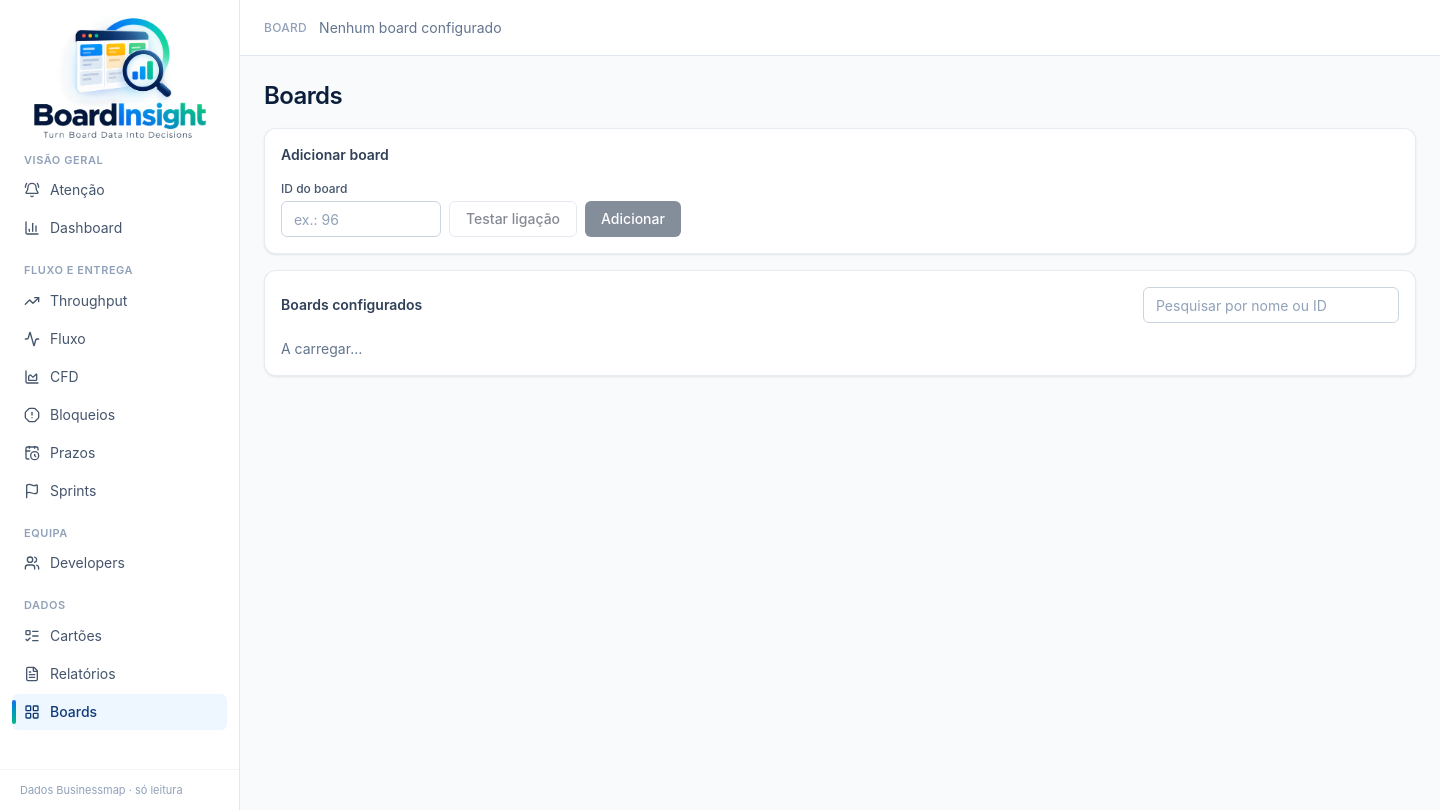
mostra o erro da API quando o board não existe
The image size is (1440, 810).
Type "404" into the field labelled "ID do board" at (361, 219), box [281,201,441,237]
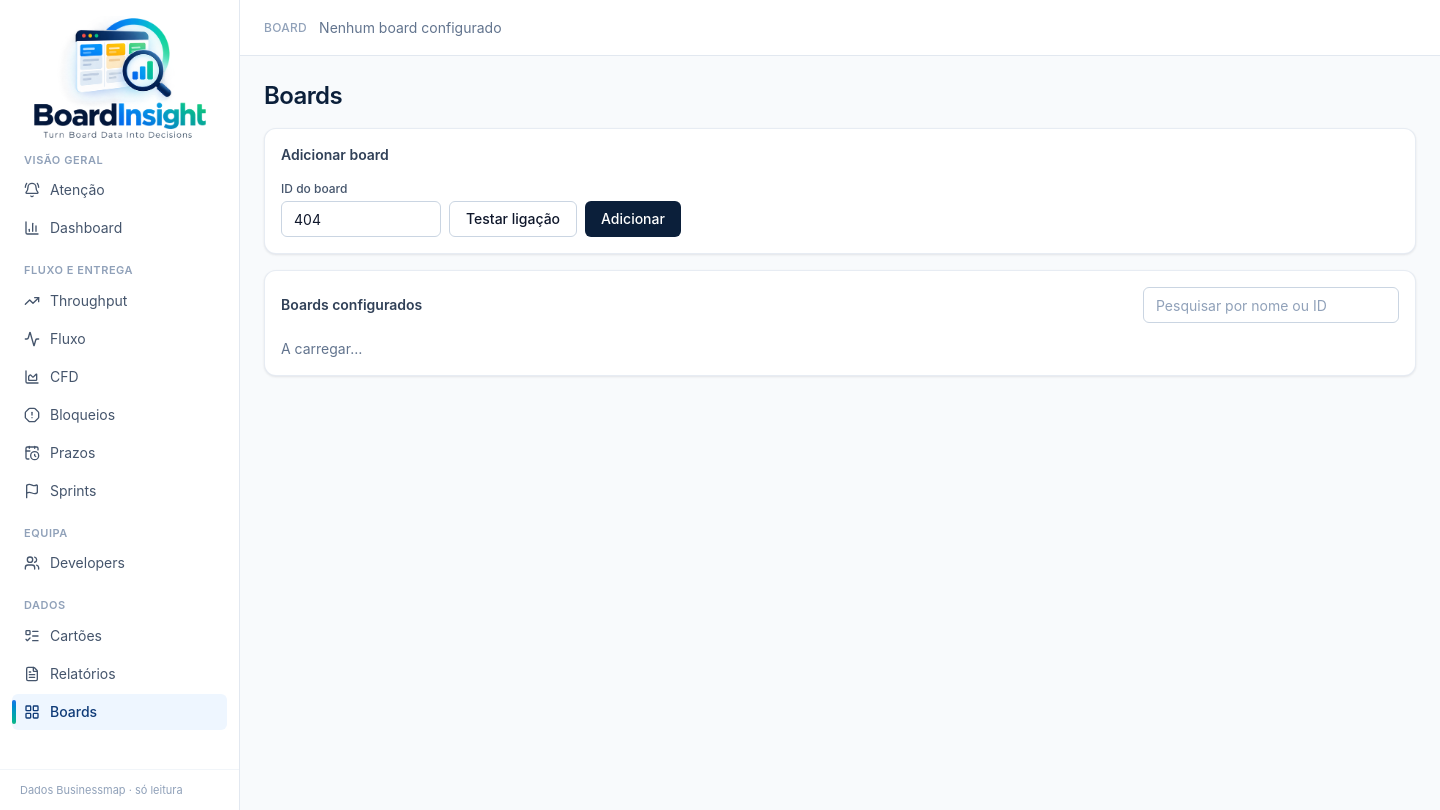
Click the button "Adicionar" at (633, 219), box [585,201,681,237]
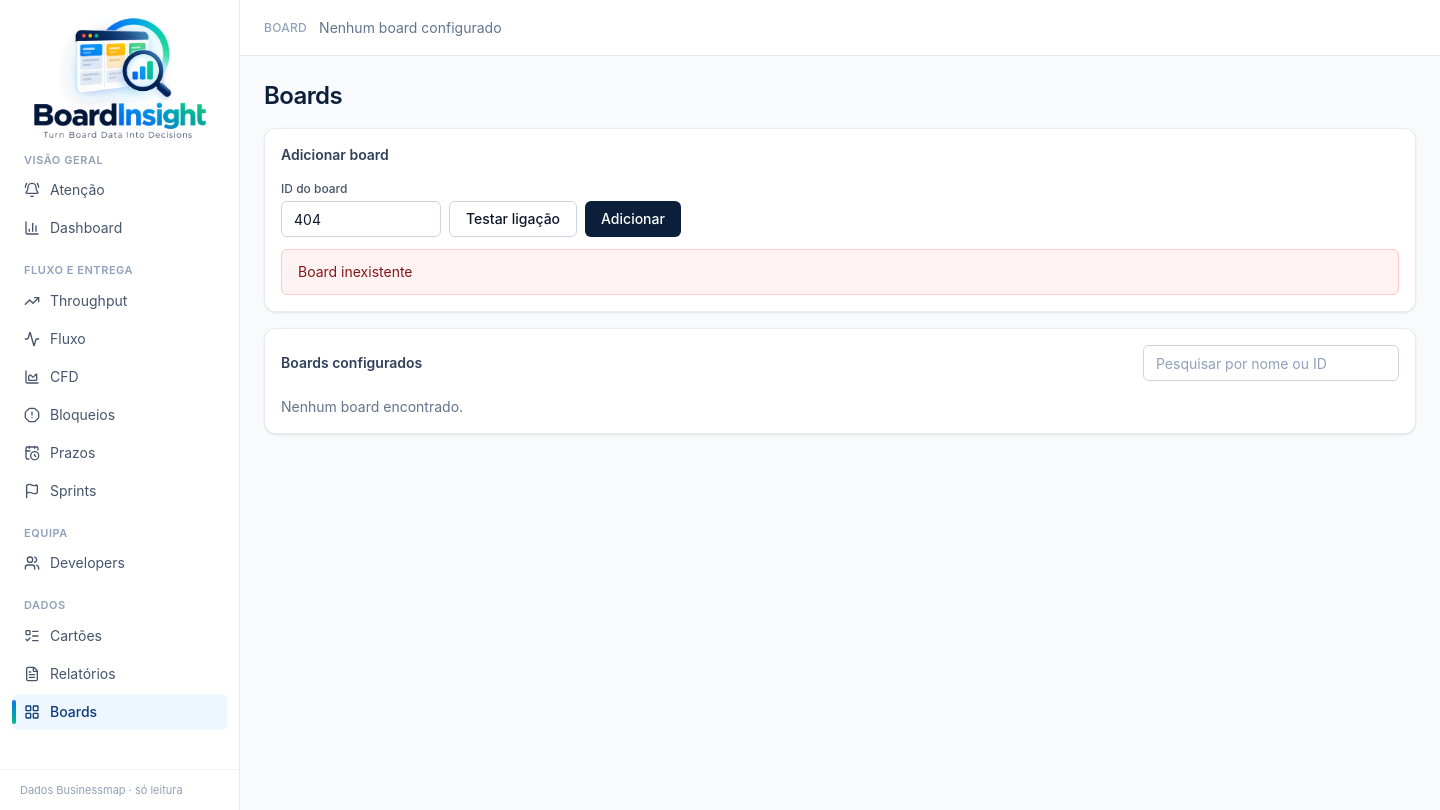
Check: the text "Board inexistente" is shown, box [281,249,1399,295]
